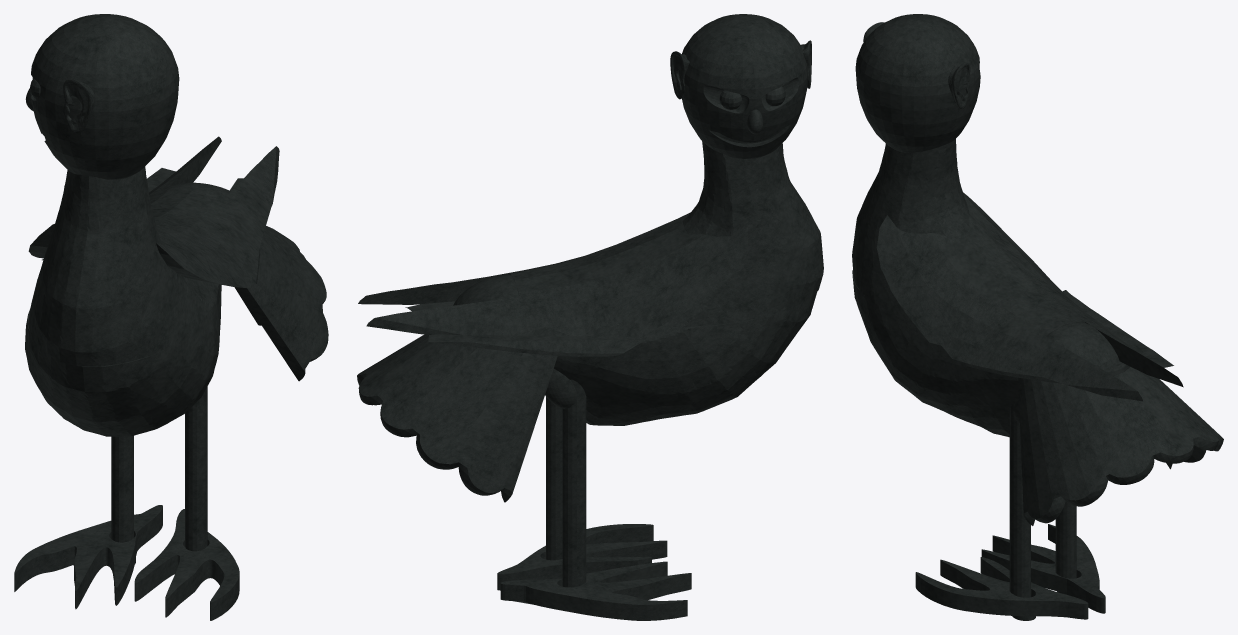
Rendered from Escher_Bird.fbx.
3 views of the same model, side by side, from view 1: azimuth 30°, elevation 25°; view 2: azimuth 150°, elevation 25°; view 3: azimuth 270°, elevation 25° (orthographic). The views are drawn at different scales.
Visible parts, largest first — view 1: "bird_from_another_world222"; view 2: "bird_from_another_world222"; view 3: "bird_from_another_world222".
Boxes of the visible parts, x1,y1,x2,y2 form: "bird_from_another_world222": (14,14,328,620); "bird_from_another_world222": (357,14,823,620); "bird_from_another_world222": (852,14,1223,620).
Size of the model in its own units: 88.35 by 87.04 by 137.
Materials: 1 (1 with a texture image).
